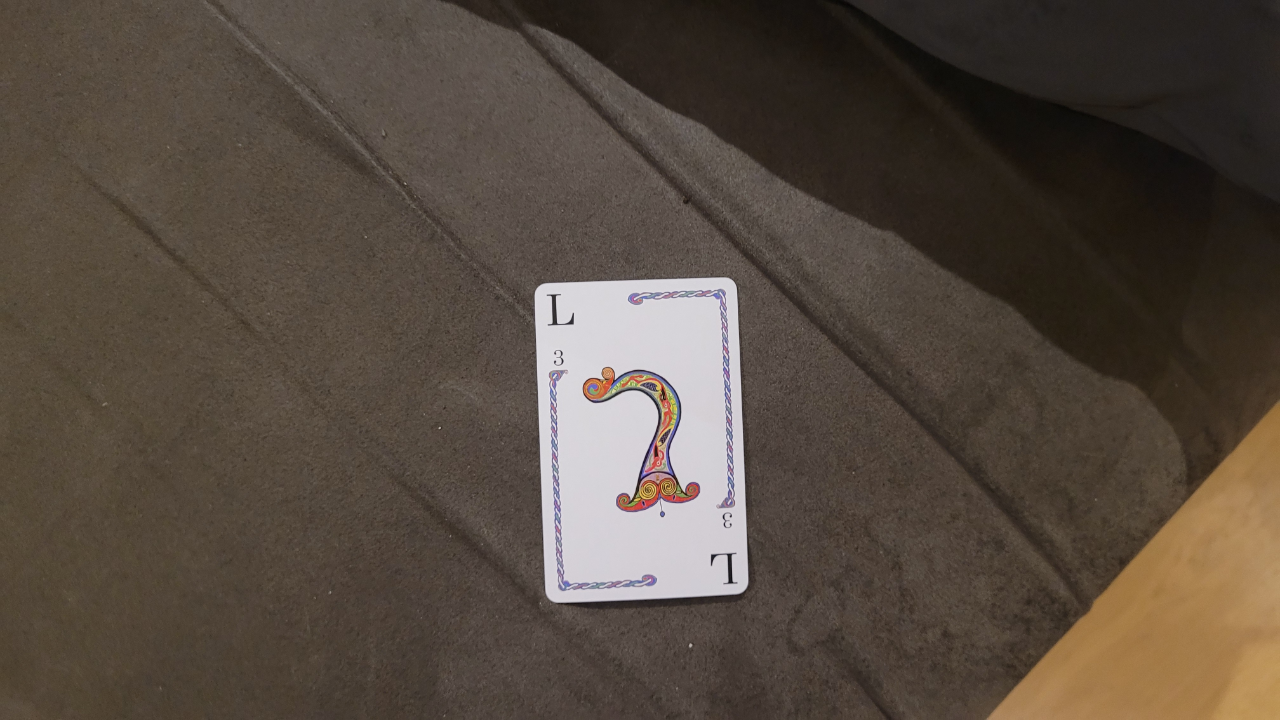quiddler_card: (524, 268, 762, 611)
